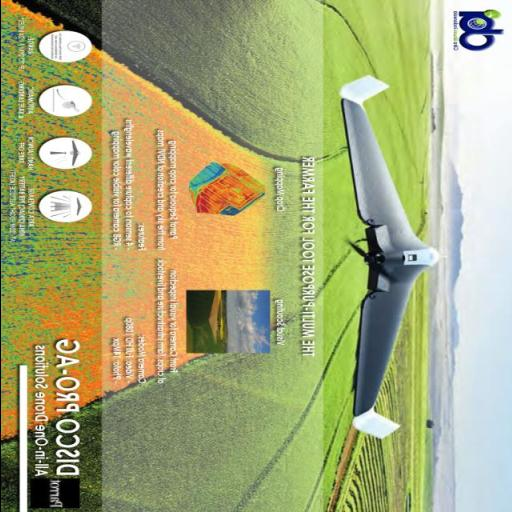uav: (330, 74, 444, 452)
